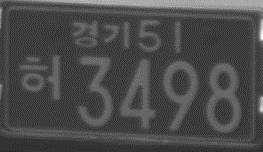1: (168, 18, 188, 54)
3: (77, 53, 114, 129)
4: (118, 56, 157, 129)
5: (137, 17, 164, 53)
8: (203, 61, 243, 134)
9: (161, 59, 200, 134)
경기_O: (70, 17, 132, 52)
허: (15, 53, 65, 103)
